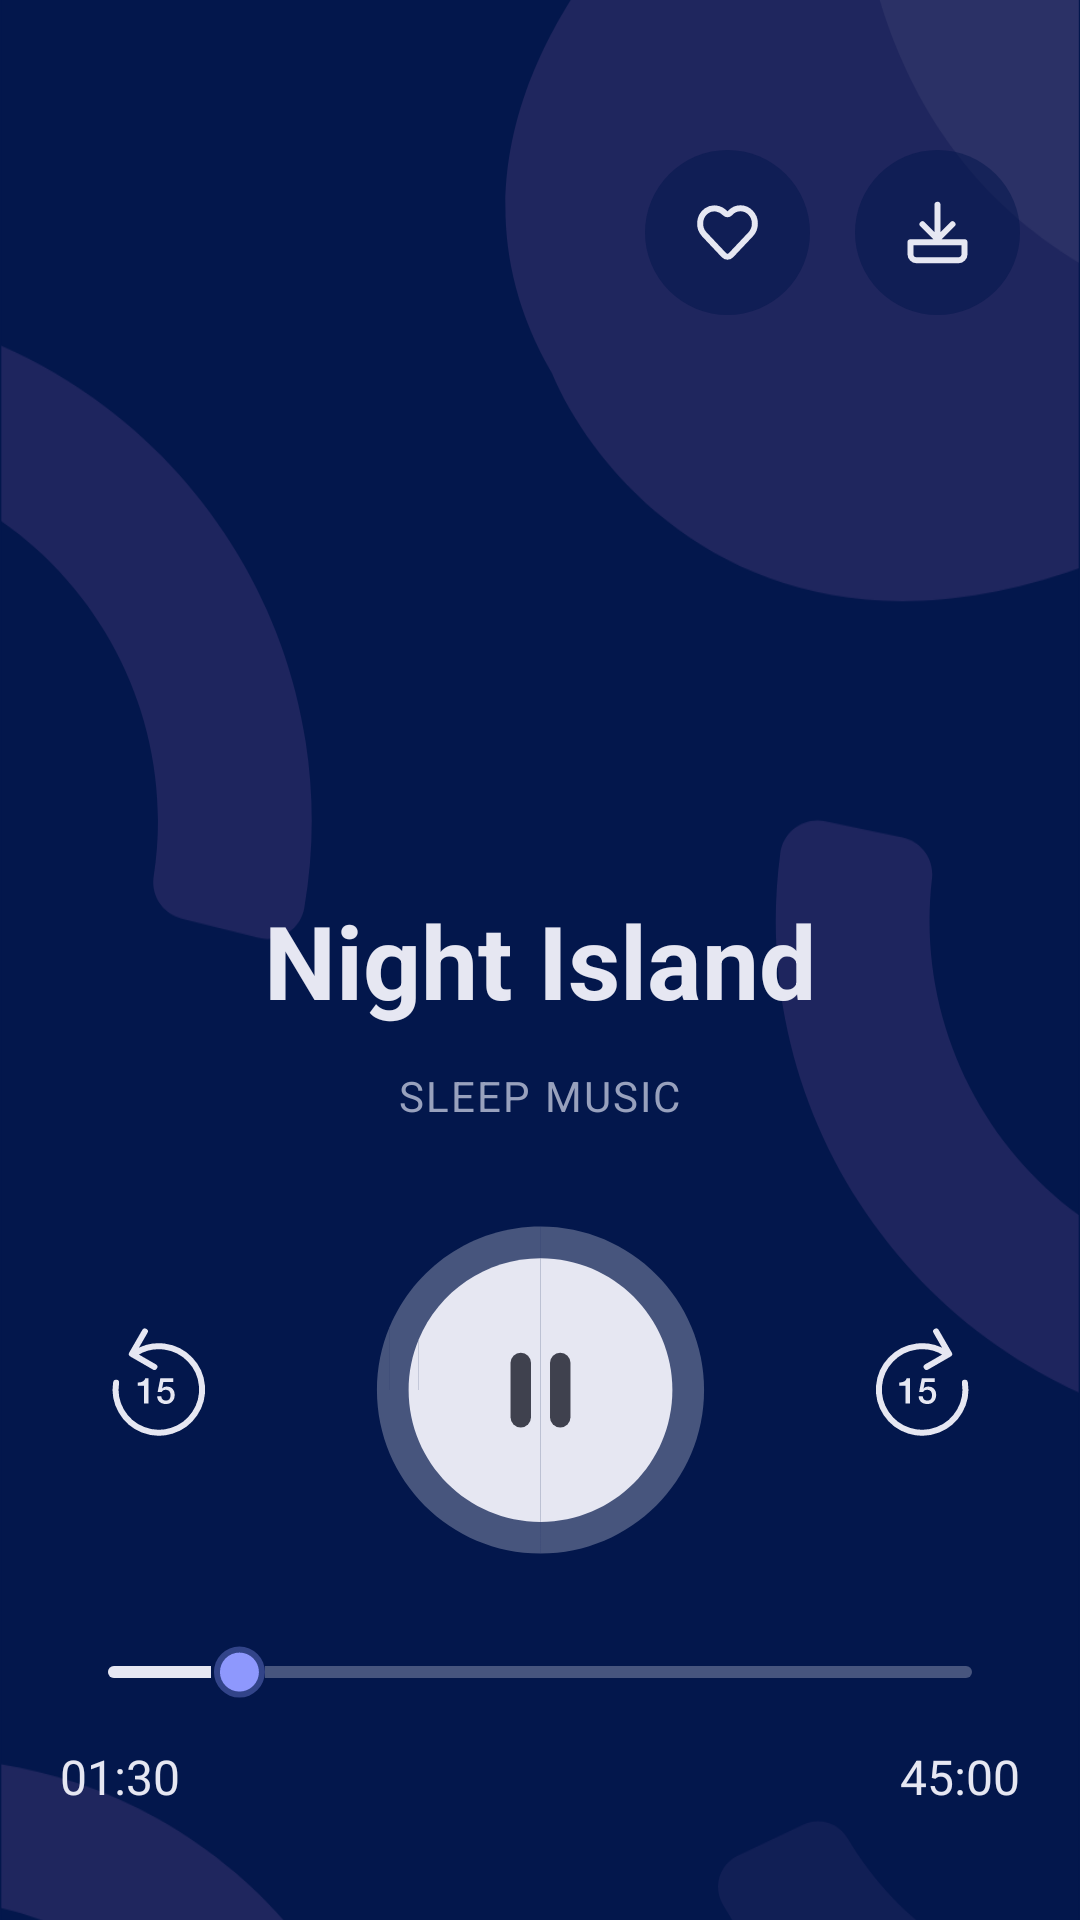

Icon bounding boxes for this 1080*1920 phone screenshot, format (x1, y1, x2, y2):
music download: (855, 150, 1020, 315)
music like: (645, 150, 810, 315)
music pause: (377, 1226, 704, 1554)
music rewind backward: (112, 1328, 205, 1436)
music rewind forward: (876, 1328, 969, 1436)
